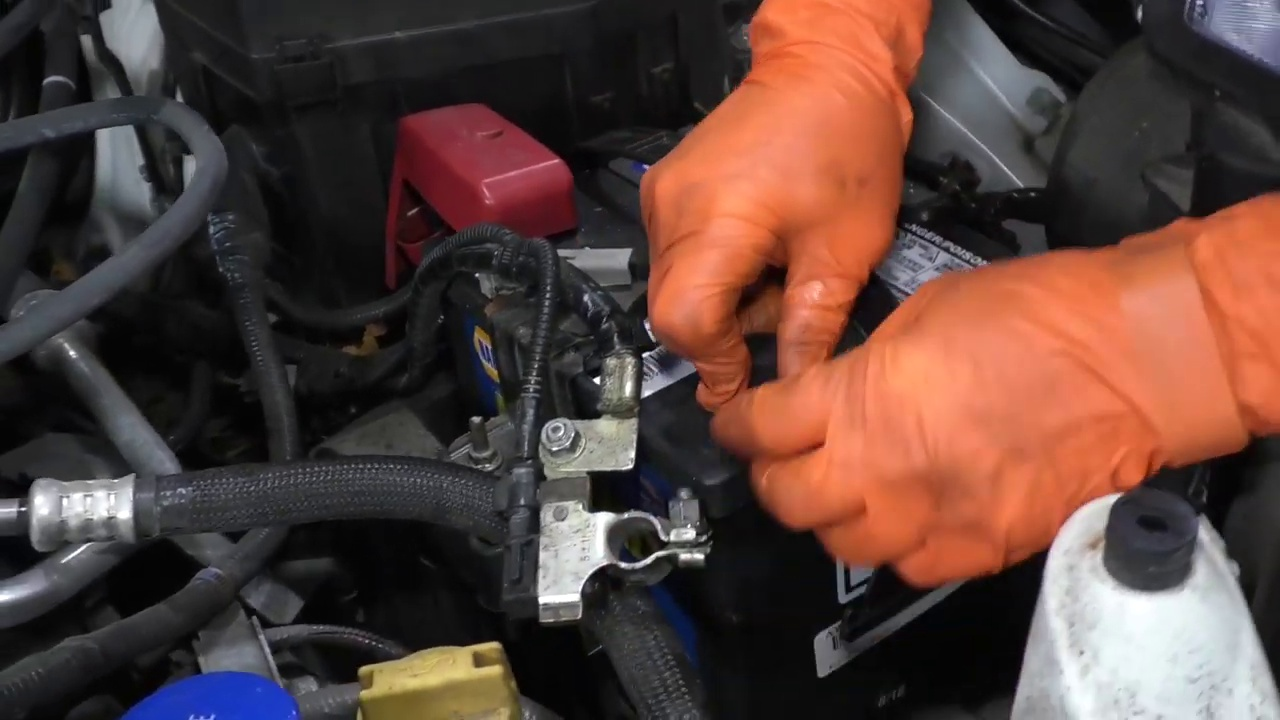battery: (417, 118, 1028, 493)
pos_connected: (369, 100, 593, 287)
